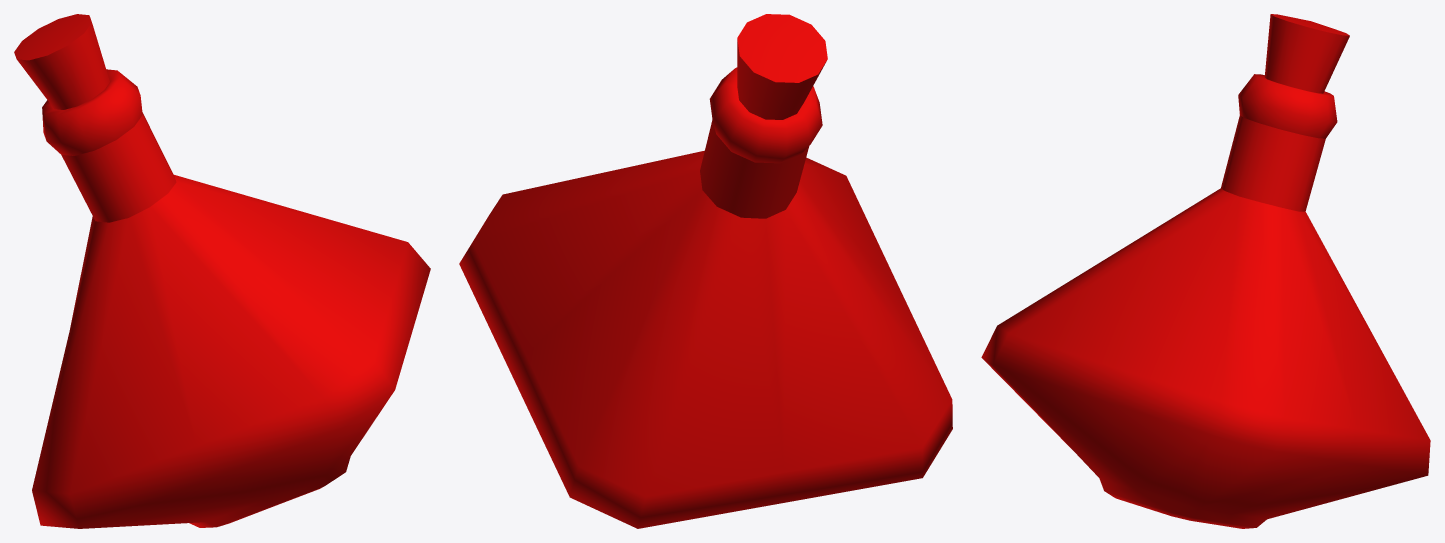
Rendered from Potions_08.fbx.
3 renders of one model, left to right at view 1: azimuth 30°, elevation 25°; view 2: azimuth 150°, elevation 25°; view 3: azimuth 270°, elevation 25°, orthographic. The views are drawn at different scales.
Visible parts, largest first — view 1: Potion_08; view 2: Potion_08; view 3: Potion_08.
Part boxes in pixels (x1,y1,x2,y2): Potion_08: (14,14,430,528); Potion_08: (459,14,952,528); Potion_08: (981,14,1430,528).
Size of the model in its own units: 0.5068 by 0.5161 by 0.5796.
